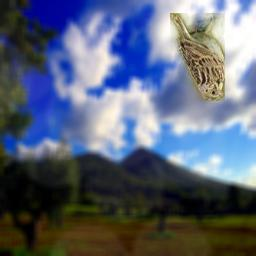Sparrow: (170, 13, 225, 101)
